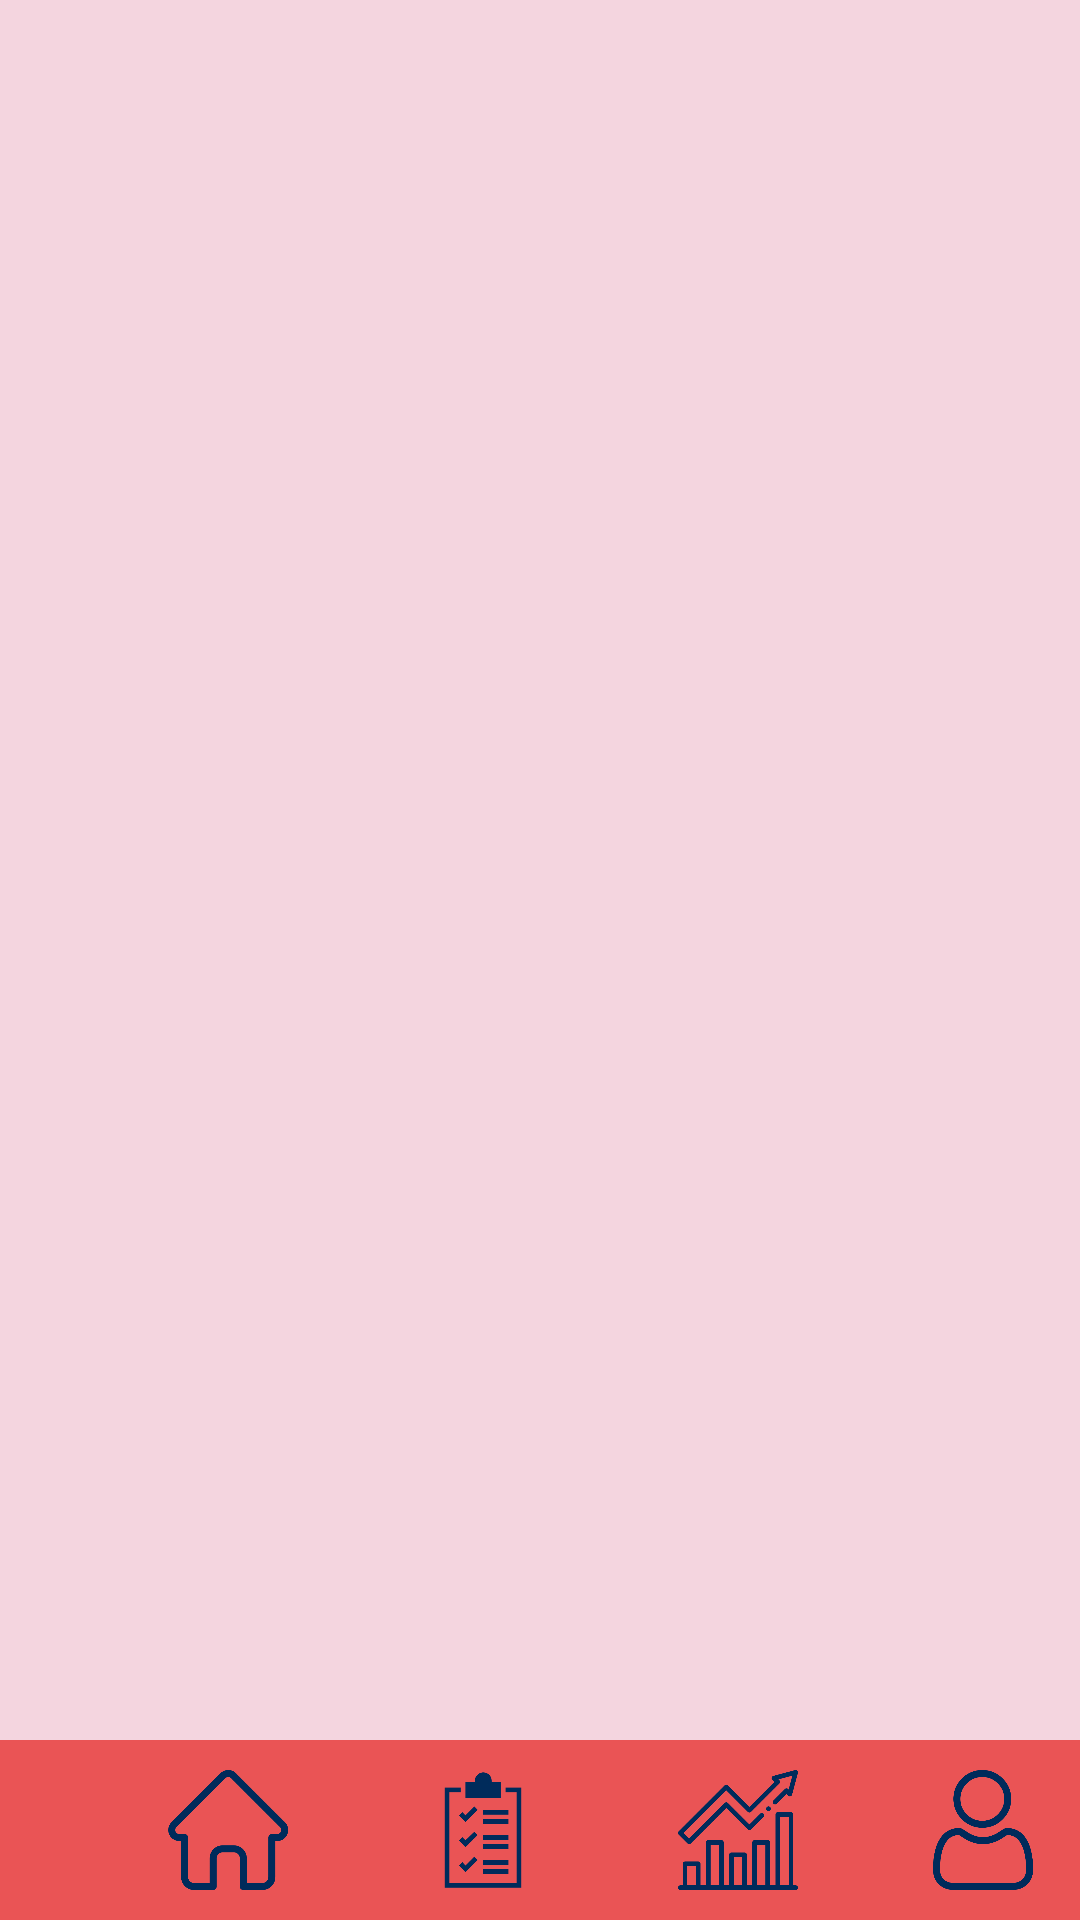

Named icons in this screenshot (1080w x 1920h) and their bounding boxes, (x1=x1, y1=y1, x2=x2, y2=y2):
home: (x1=168, y1=1770, x2=288, y2=1890)
list: (x1=444, y1=1772, x2=522, y2=1888)
progress: (x1=678, y1=1770, x2=798, y2=1890)
user: (x1=933, y1=1770, x2=1033, y2=1890)
